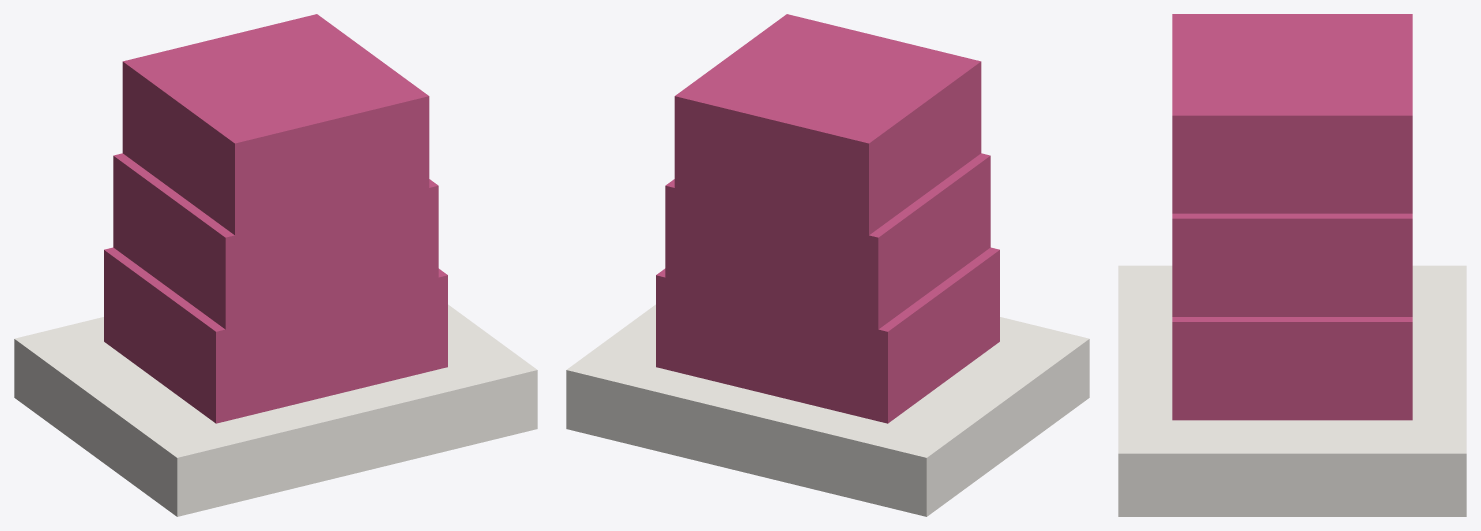
The model's file is record_player-lv3.glb.
3 renders of one model, left to right at view 1: azimuth 30°, elevation 25°; view 2: azimuth 150°, elevation 25°; view 3: azimuth 270°, elevation 25°, orthographic. The views are drawn at different scales.
Visible parts, largest first — view 1: Base, Level3, Level1, Level2; view 2: Base, Level3, Level1, Level2; view 3: Base, Level3, Level1, Level2.
Part boxes in pixels (bbox=[...]): Base: bbox=[14, 304, 537, 516]; Level3: bbox=[122, 14, 429, 235]; Level1: bbox=[104, 247, 447, 423]; Level2: bbox=[113, 153, 438, 329]; Base: bbox=[566, 304, 1089, 516]; Level3: bbox=[674, 14, 981, 235]; Level1: bbox=[656, 247, 999, 423]; Level2: bbox=[665, 153, 990, 329]; Base: bbox=[1118, 265, 1466, 516]; Level3: bbox=[1172, 14, 1412, 213]; Level1: bbox=[1172, 317, 1412, 420]; Level2: bbox=[1172, 213, 1412, 316].
Size of the model in its own units: 1.15 by 1.02 by 0.9.
